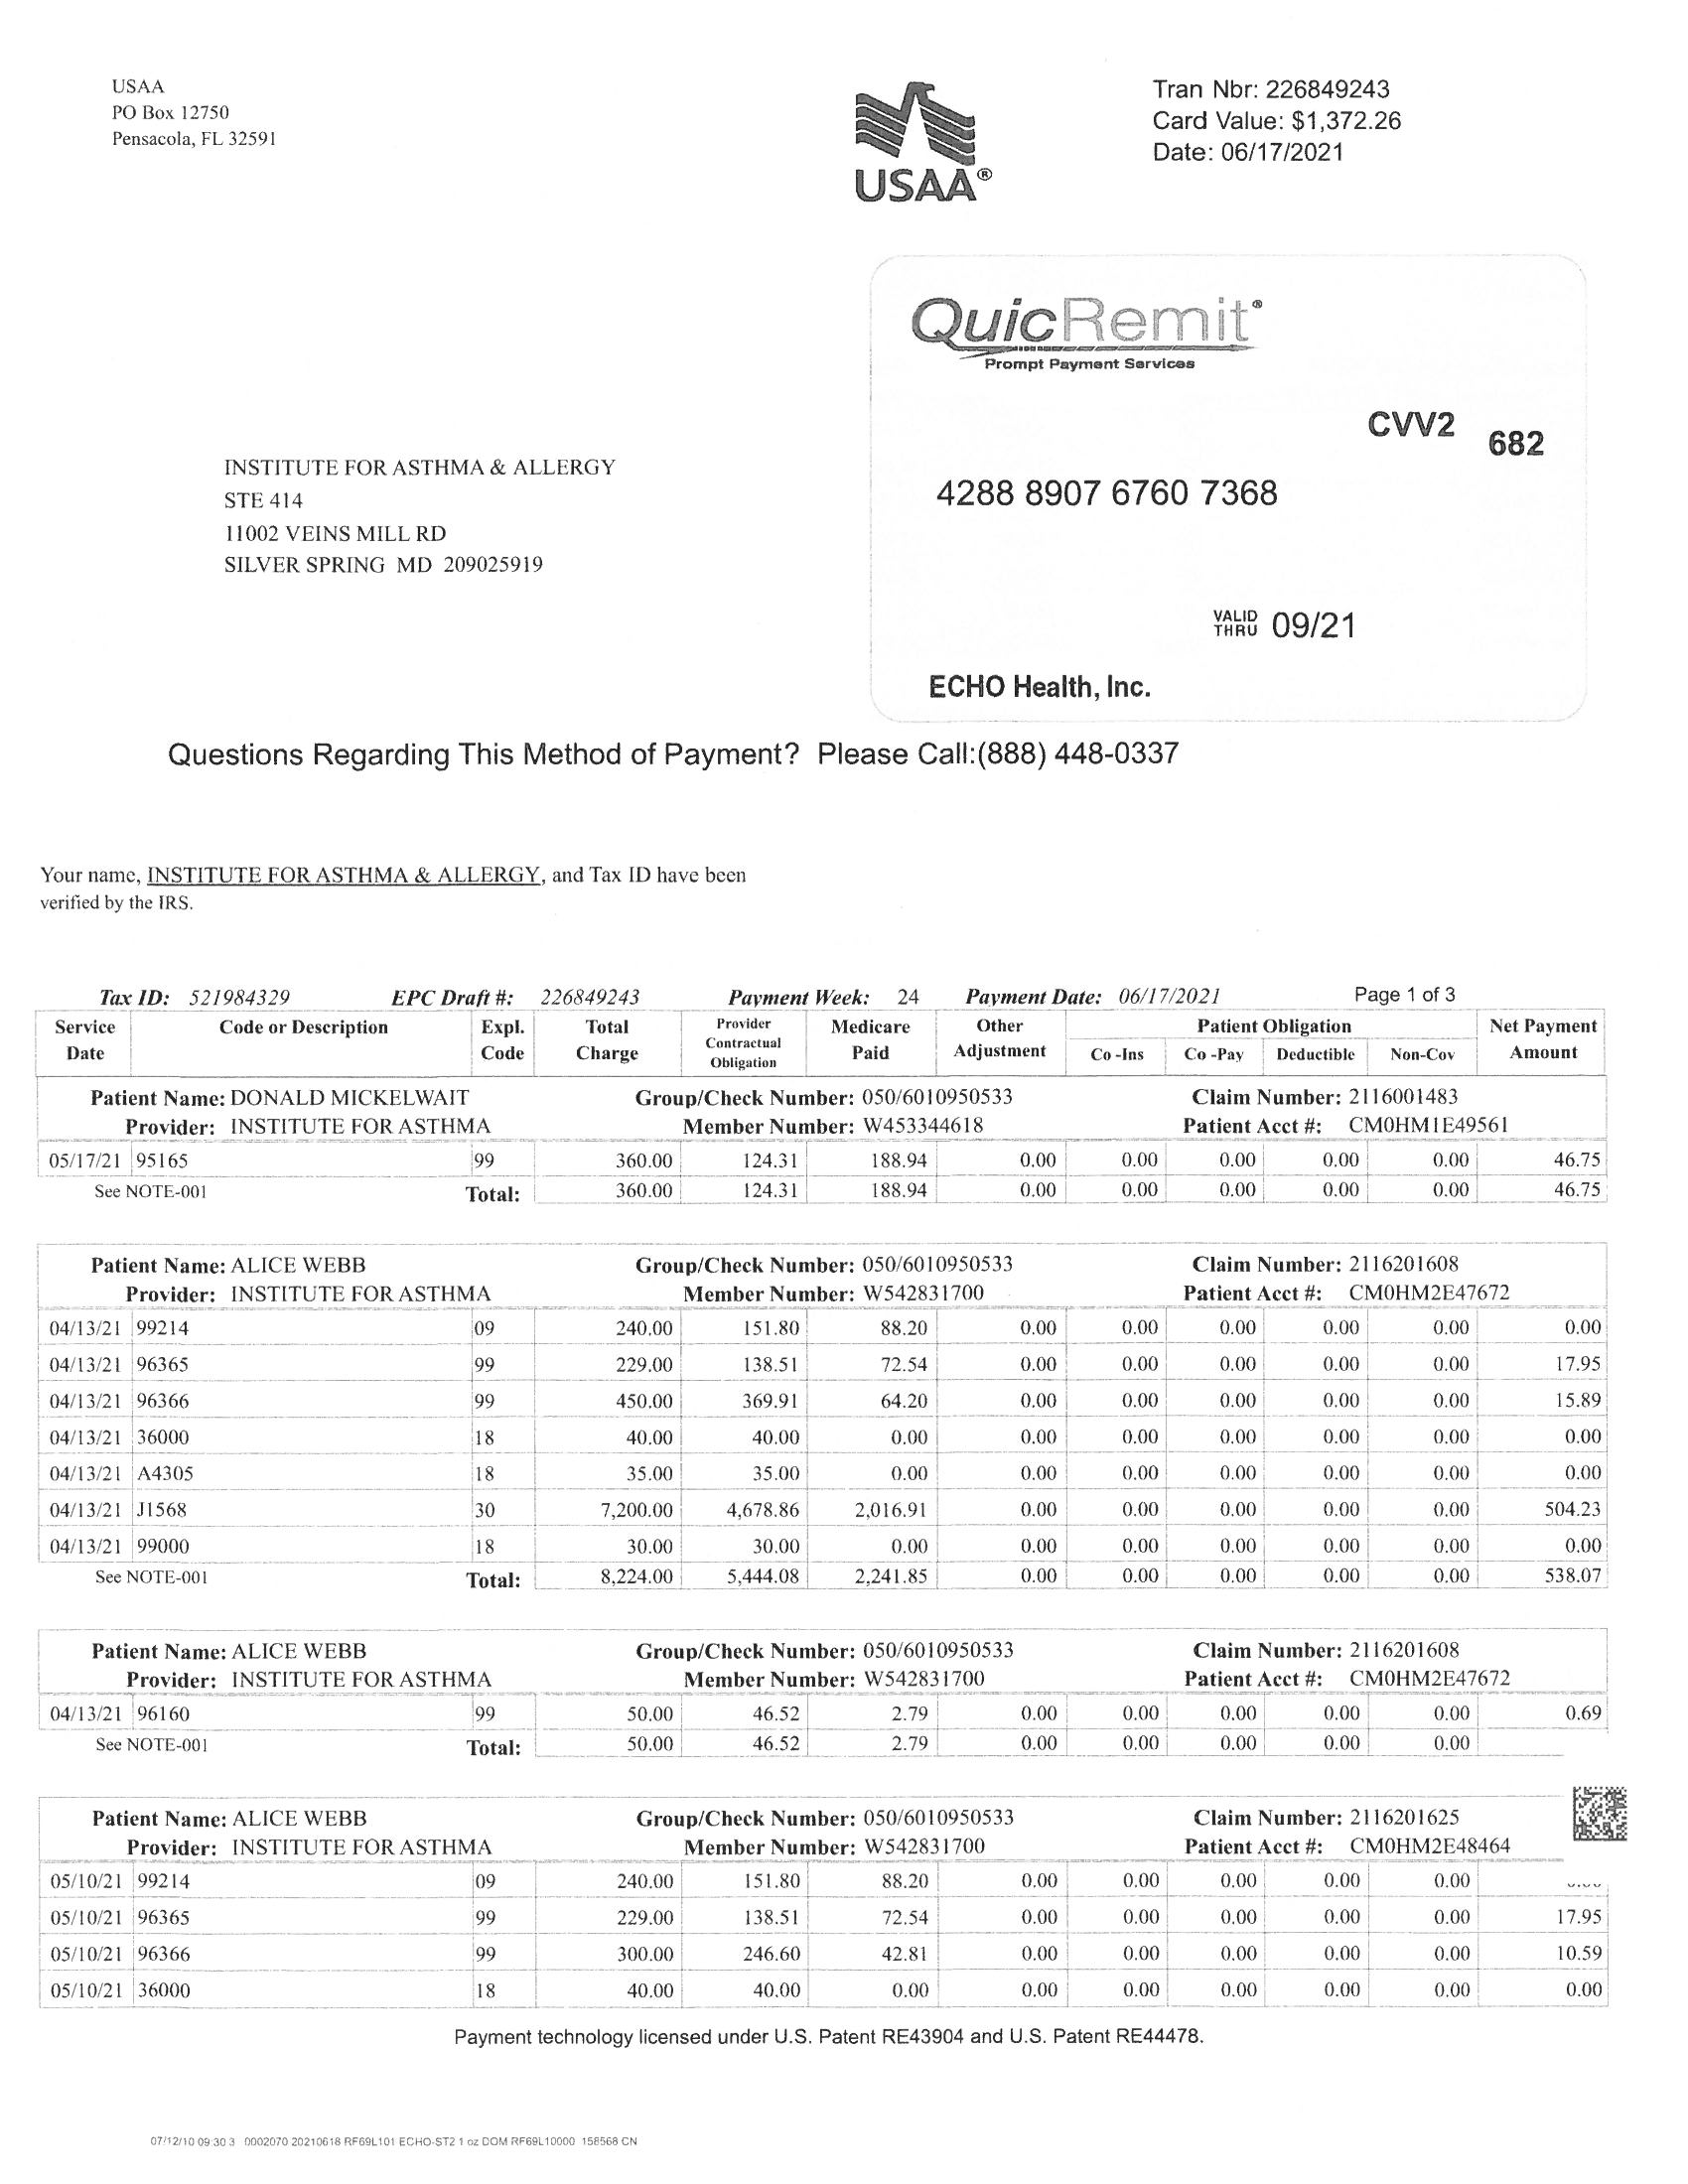data: (71, 1631, 1528, 1695), (82, 1801, 1536, 1865), (53, 1072, 1527, 1133), (176, 420, 640, 603), (74, 1248, 1536, 1303), (1129, 62, 1431, 184)
table: (21, 980, 1635, 2016)
